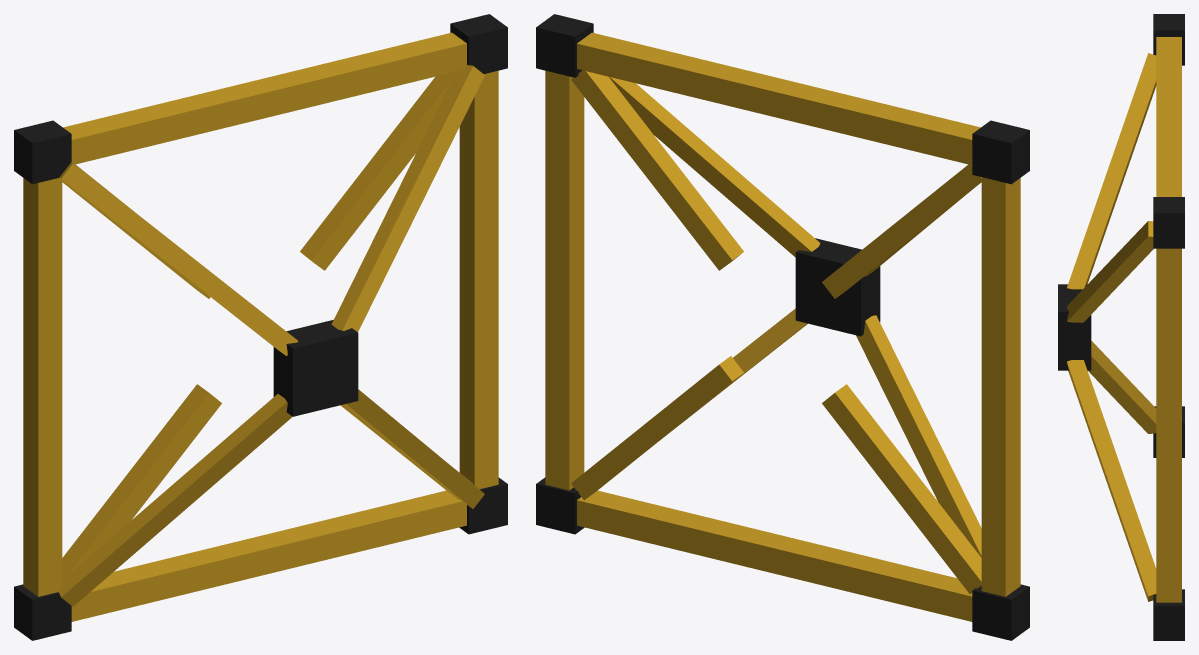
File: tr20k_frame.obj
The picture shows the model from 3 angles, left to right: view 1: azimuth 30°, elevation 25°; view 2: azimuth 150°, elevation 25°; view 3: azimuth 270°, elevation 25°; orthographic projection. The views are drawn at different scales.
Parts seen in each view (by area): view 1: tr20k_frame; view 2: tr20k_frame; view 3: tr20k_frame.
Part boxes in pixels (left/top/right/bottom): tr20k_frame: left=14, top=14, right=507, bottom=640; tr20k_frame: left=536, top=14, right=1029, bottom=640; tr20k_frame: left=1058, top=14, right=1184, bottom=640.
Bounding box in the file's own units: 5.1 × 5.1 × 1.37.
